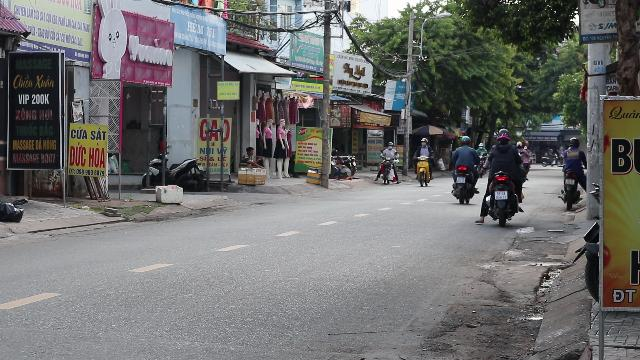helmet: (496, 128, 510, 144)
licenseplate: (495, 191, 507, 199)
motorcyclist: (478, 128, 526, 226)
